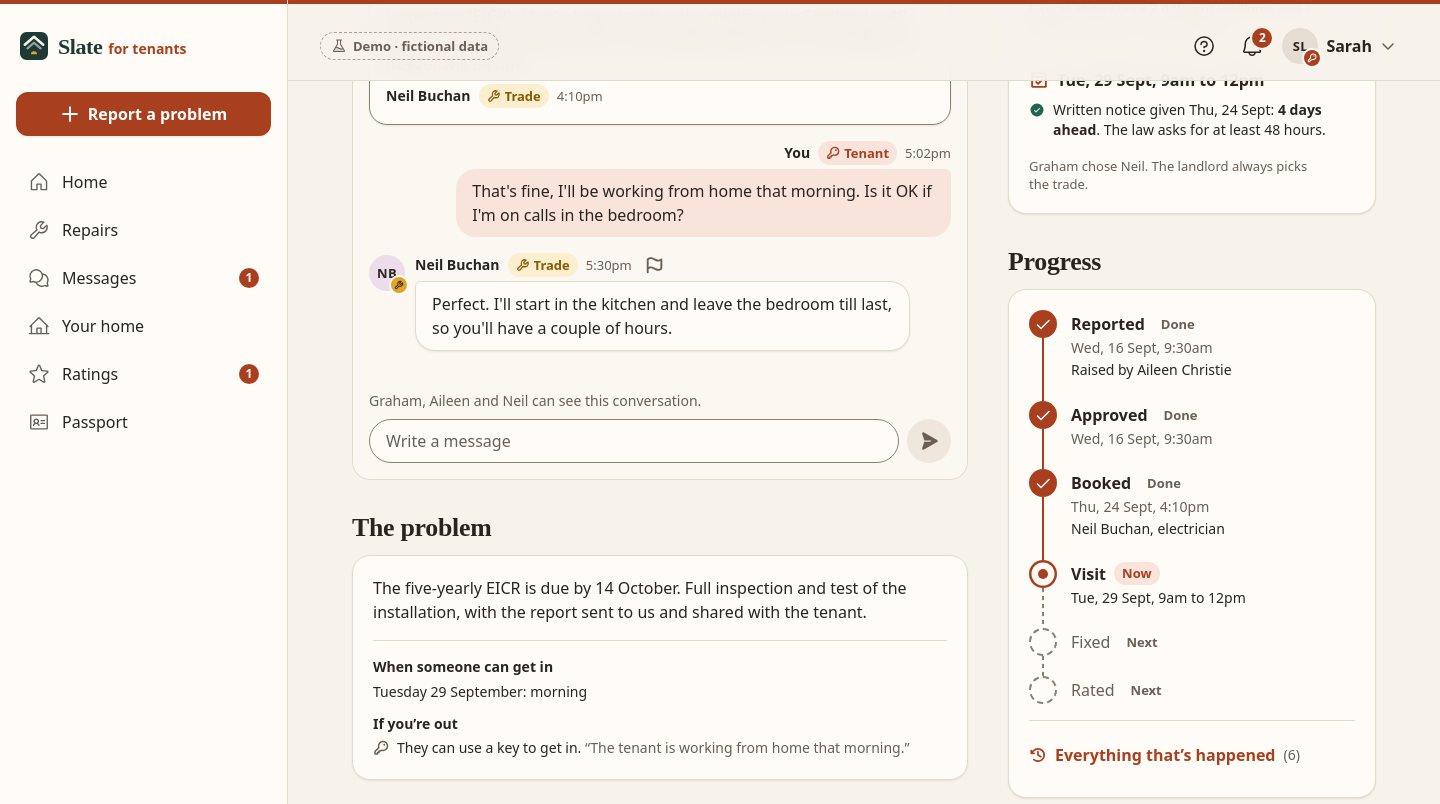
Test: a repair’s page › has the conversation on the same screen, and sends a message straight away
The width and height of the screenshot is (1440, 804).
(page scrolled)
Type "The buzzer is broken, just knock." into the text box labelled "Write a message". click: (634, 441)
box: [369,419,899,463]
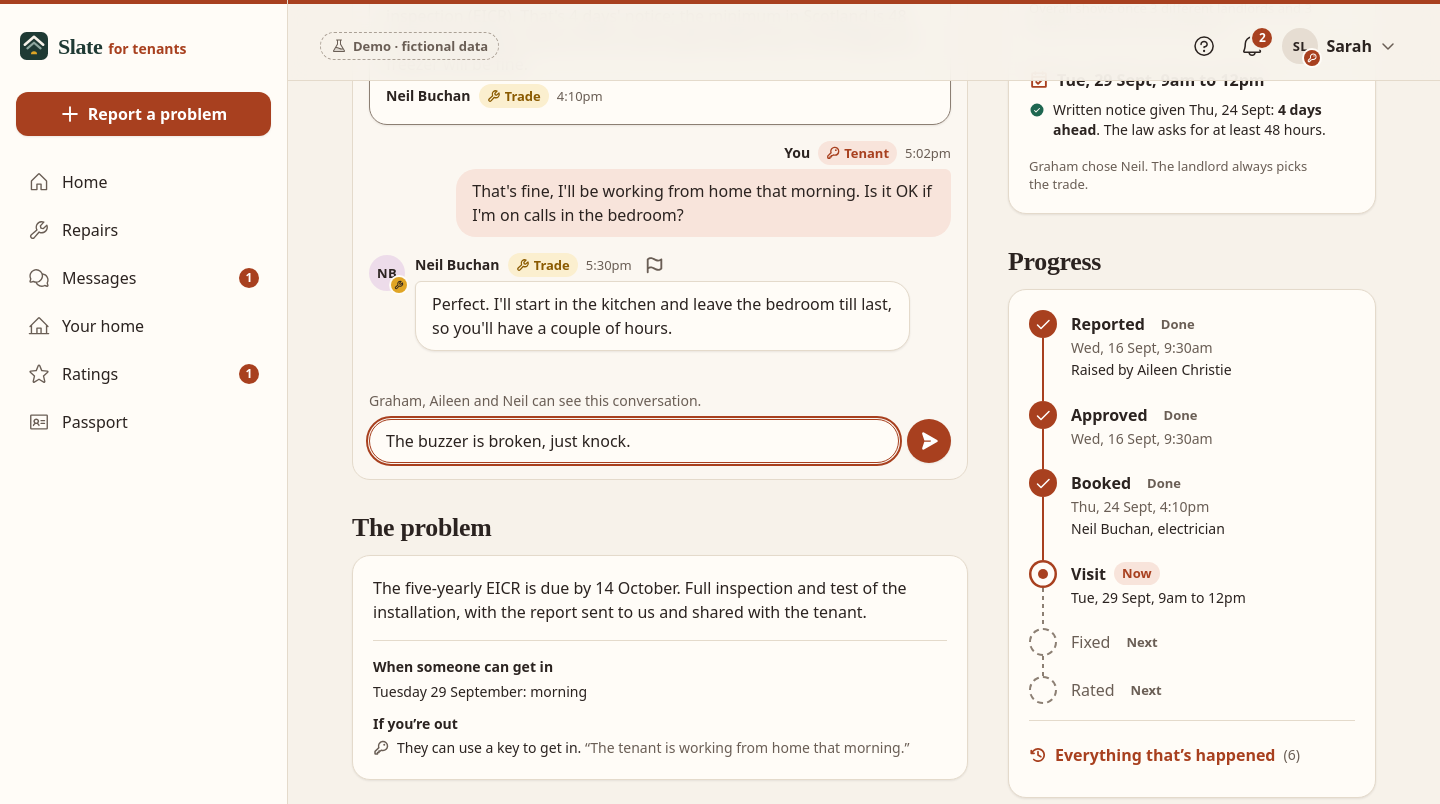
Click the button named "Send". click: click(929, 441)
box: [907,419,951,463]
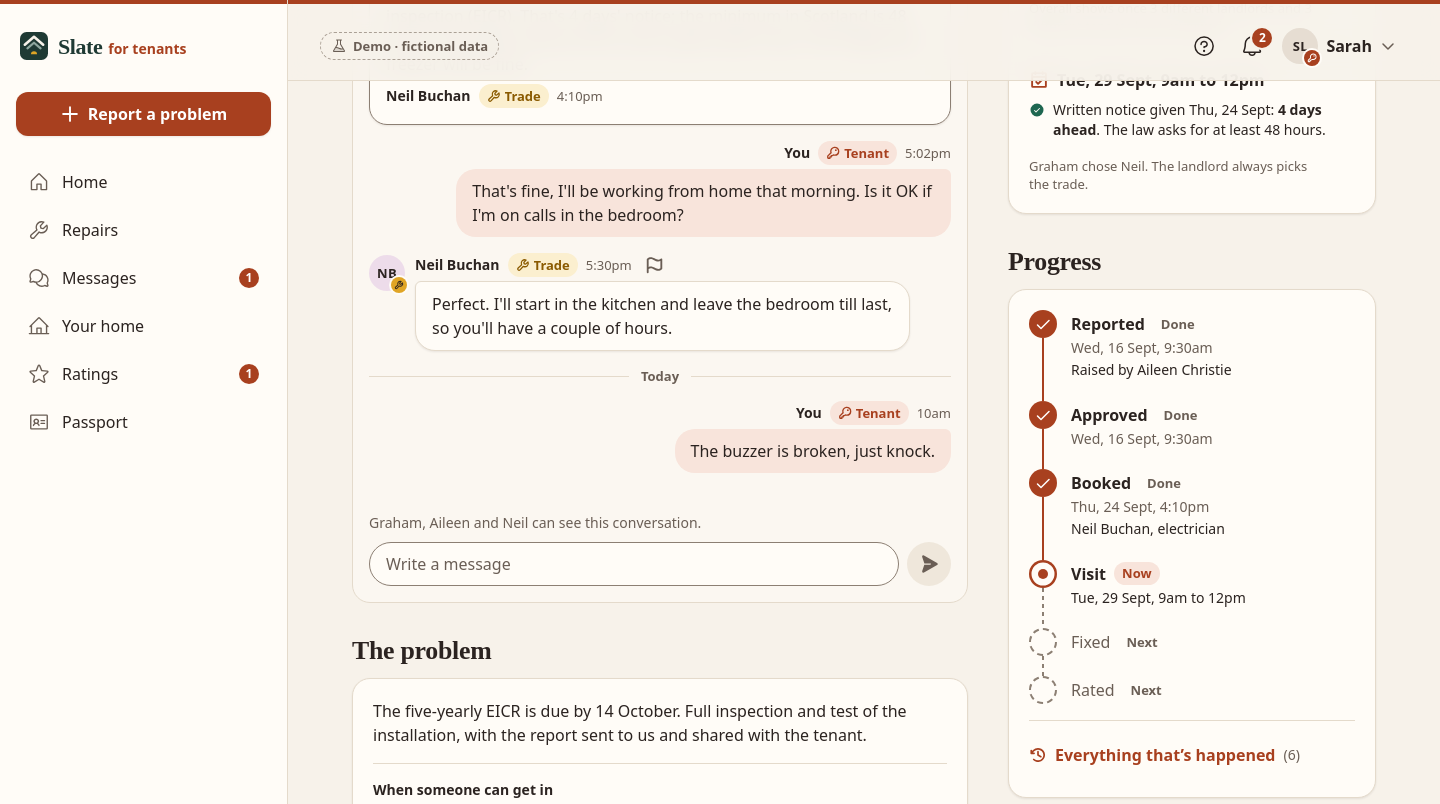
expect the text "The buzzer is broken, just knock." is shown: met, box [675,429,951,473]
